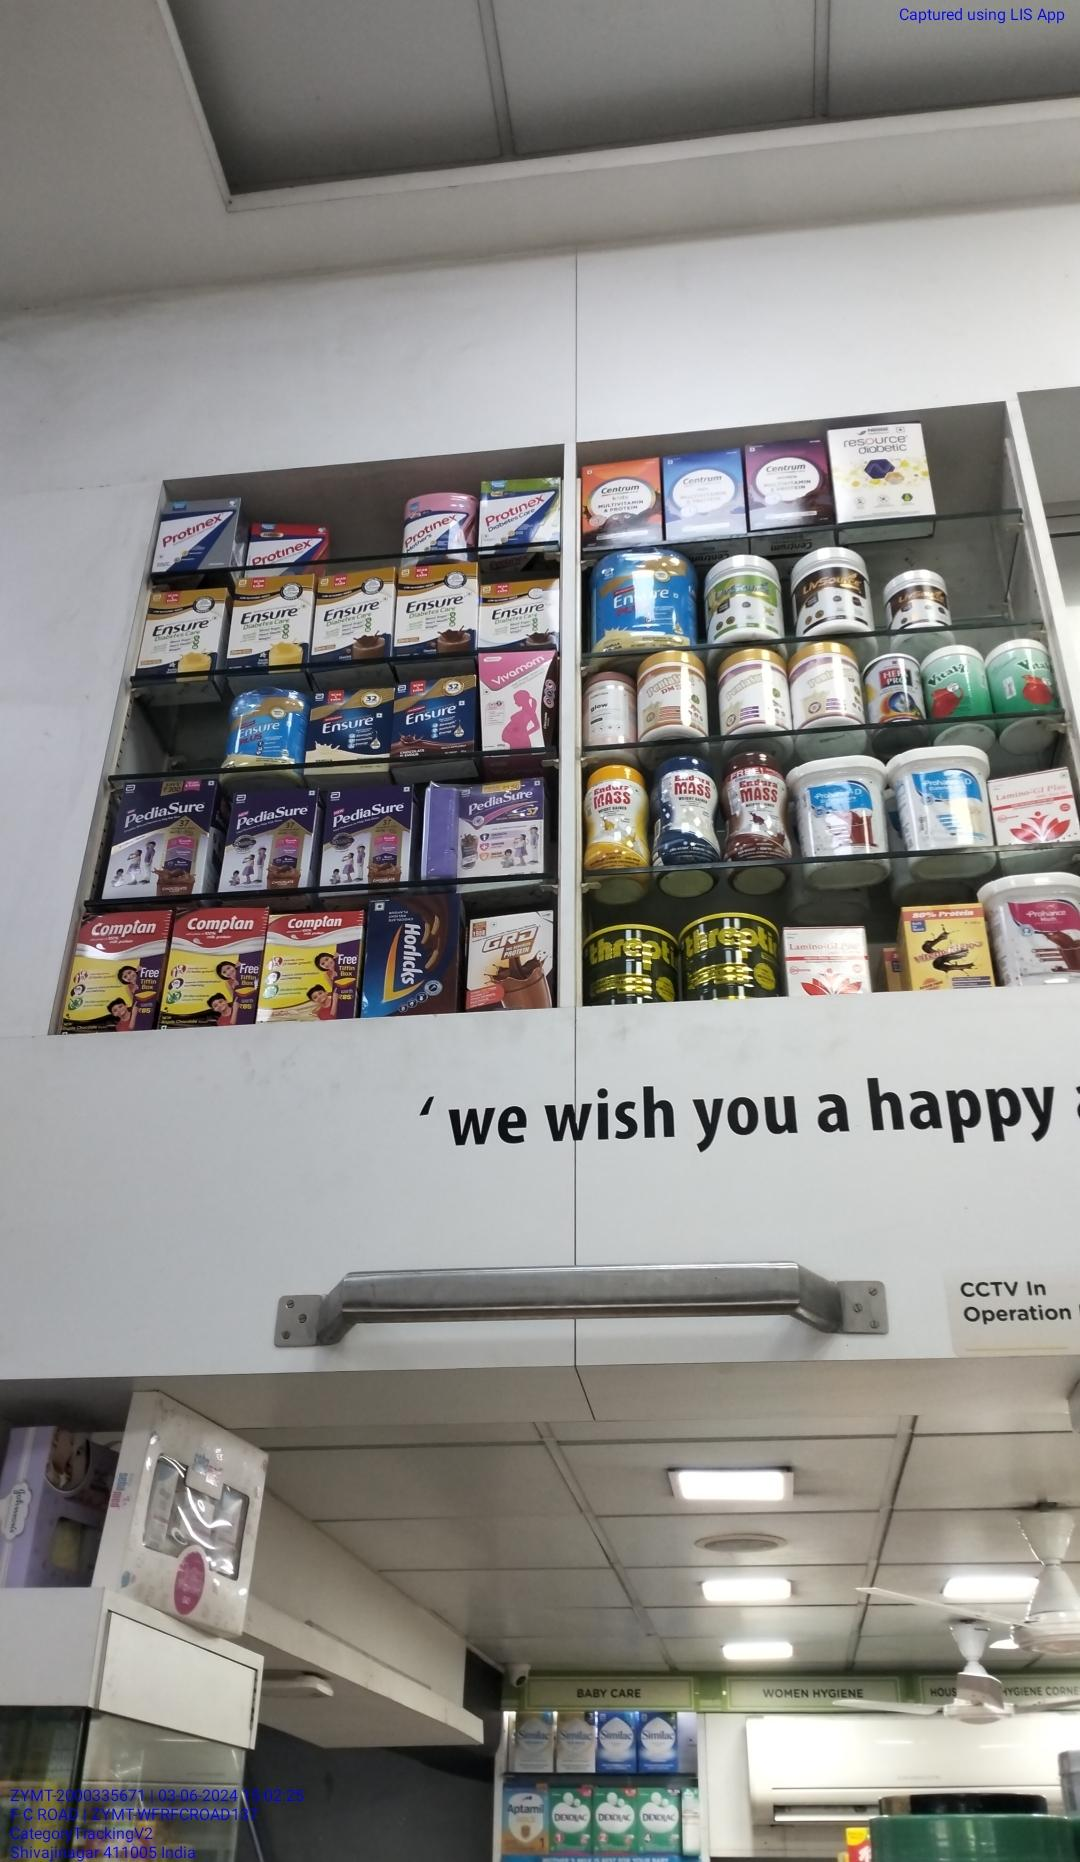COMPLAN_CHOCOLATE_1_KG_PACK: (163, 906, 257, 1024), (71, 910, 157, 1032)
COMPLAN_KESAR_BADAM_500_GMS_PACK: (261, 911, 359, 1019)
ENSURE_VANILLA_400_G_PACK: (307, 690, 386, 775)
HORLICK_CHOCOLATE_1_KG_PACK: (364, 894, 459, 1015)
PEDIASURE_CHOCOLATE_500_G_PACK: (103, 779, 211, 897), (226, 792, 311, 888), (327, 789, 410, 884)
